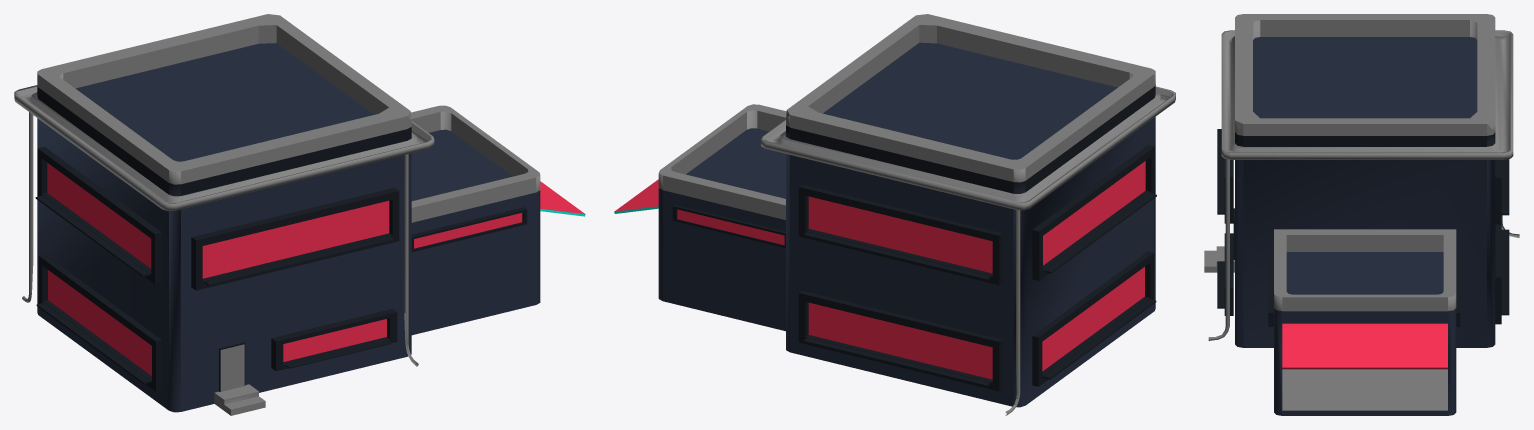
The model's file is building 3_LOD_2.fbx.
3 renders of one model, left to right at view 1: azimuth 30°, elevation 25°; view 2: azimuth 150°, elevation 25°; view 3: azimuth 270°, elevation 25°, orthographic. The views are drawn at different scales.
Parts seen in each view (by area): view 1: FLAT ROOF; view 2: FLAT ROOF; view 3: FLAT ROOF.
Boxes of the visible parts, bbox=[...] form: FLAT ROOF: bbox=[14, 14, 585, 415]; FLAT ROOF: bbox=[614, 14, 1175, 415]; FLAT ROOF: bbox=[1204, 14, 1519, 415].
Bounding box in the file's own units: 44.64 × 22.7 × 28.97.
